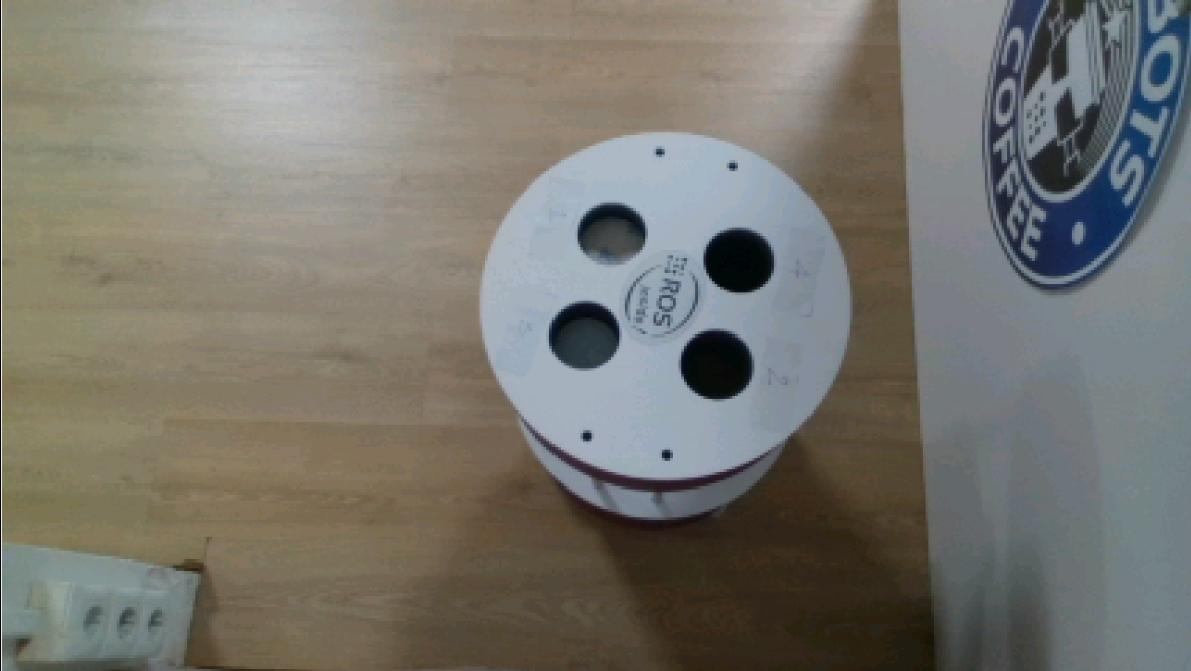hole: (676, 323, 759, 403), (544, 297, 624, 374), (701, 223, 778, 297), (574, 197, 648, 270)
